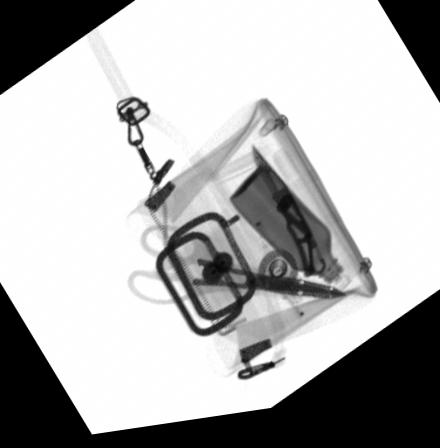Knife: (252, 151, 327, 287)
Scissors: (128, 229, 347, 311)
